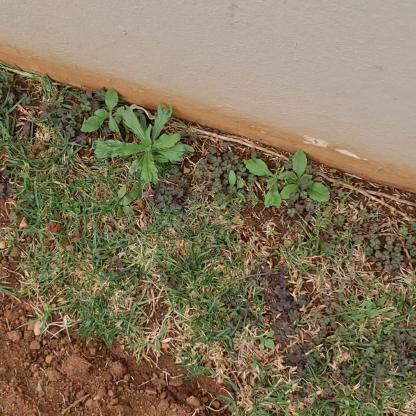Weeds: (94, 103, 191, 184), (244, 157, 297, 212), (80, 86, 129, 141), (283, 150, 331, 206)
